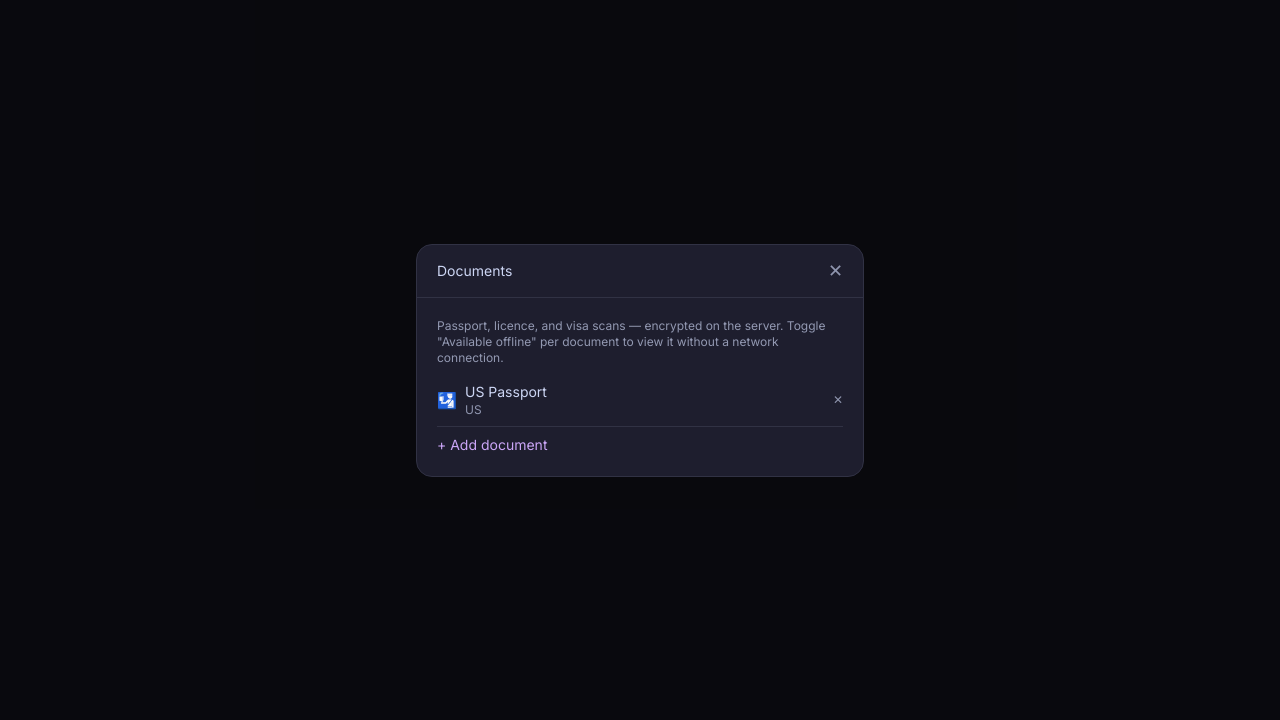
Test: Holder details (real-world regression: scanned fields not visible after saving) › shows previously-saved holder fields in the edit form
Click the text "US Passport": (506, 391) [465,382,547,400]
(page scrolled)
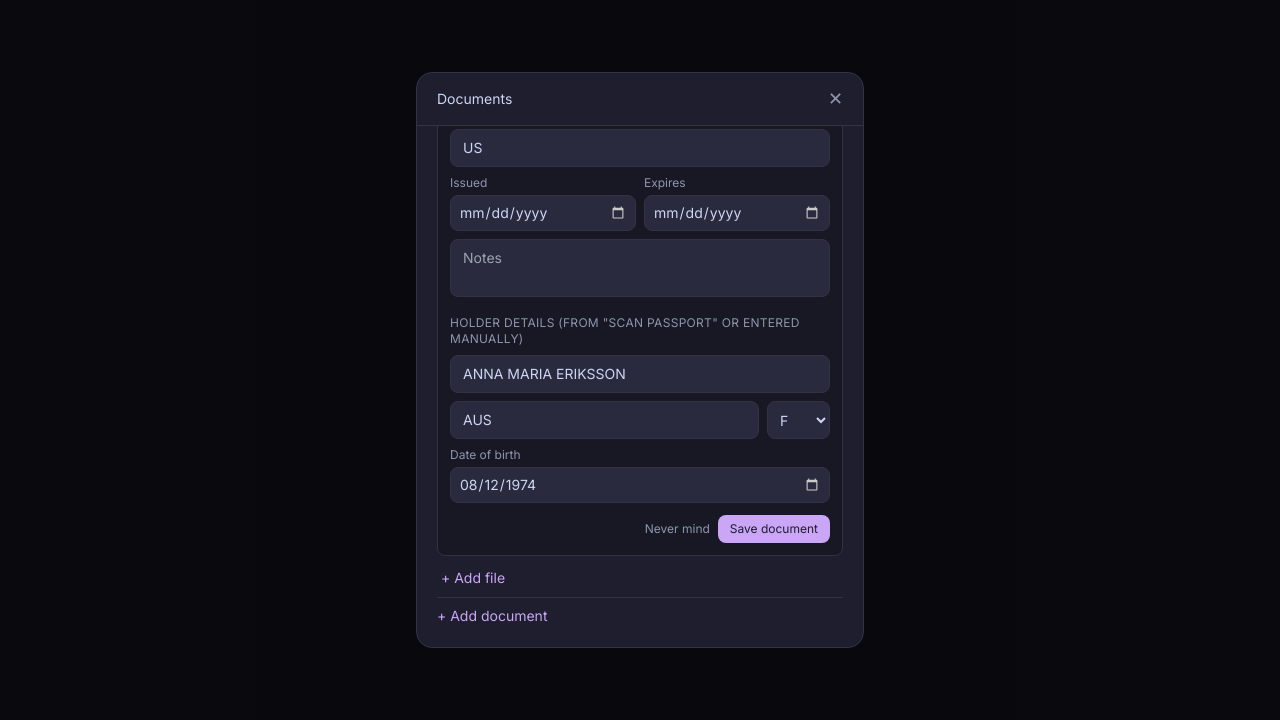
Result: the button "Save document" is shown at [718,515,830,543]
Result: the 2nd field showing "ANNA MARIA ERIKSSON" is shown at [450,355,830,393]
Result: the 3rd field showing "AUS" is shown at [450,401,759,439]
